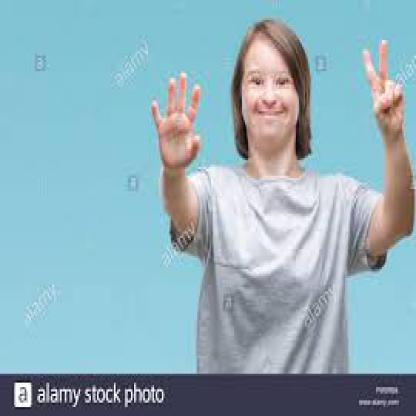Stop: (144, 63, 208, 184)
